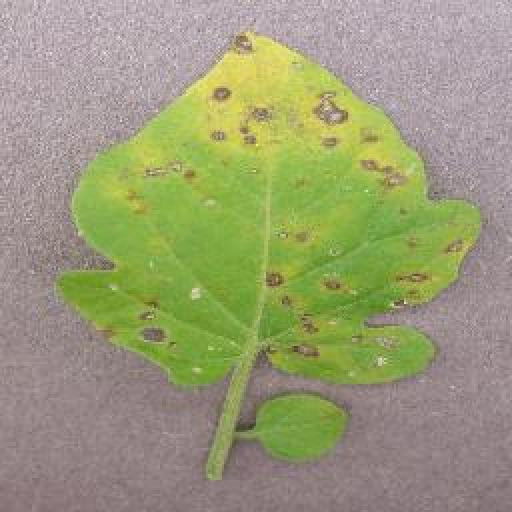disease_tomato: (59, 28, 483, 385)
